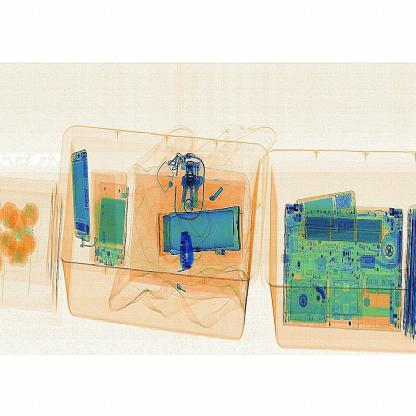scissors: (172, 222, 200, 282)
